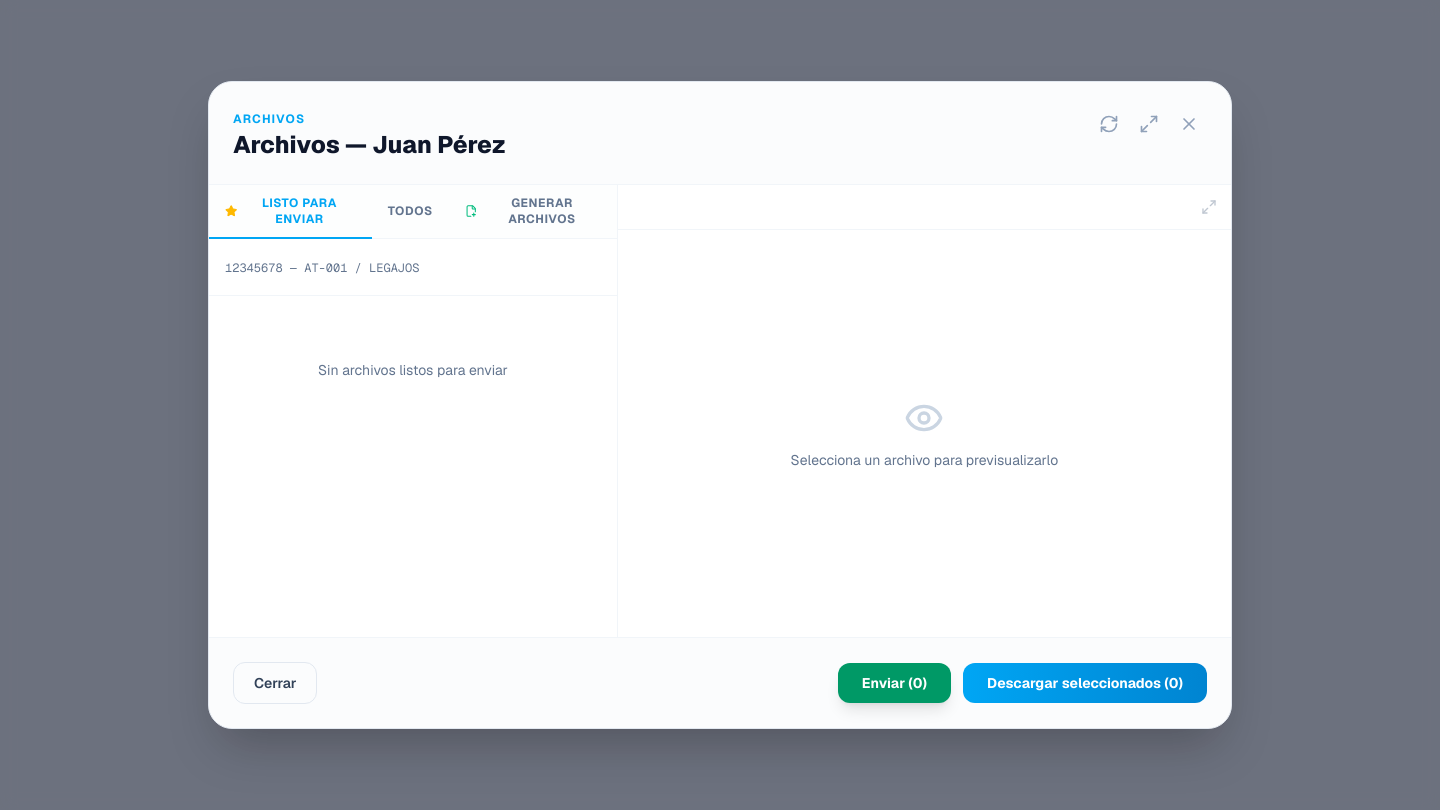
it: FilesModal › asks for confirmation before sending without attachments (Sí confirms)
The image size is (1440, 810).
Click Enviar with an empty selection → custom confirmation dialog.
Click the button with test id "files-modal-send" at (894, 683), box [838,663,951,703]
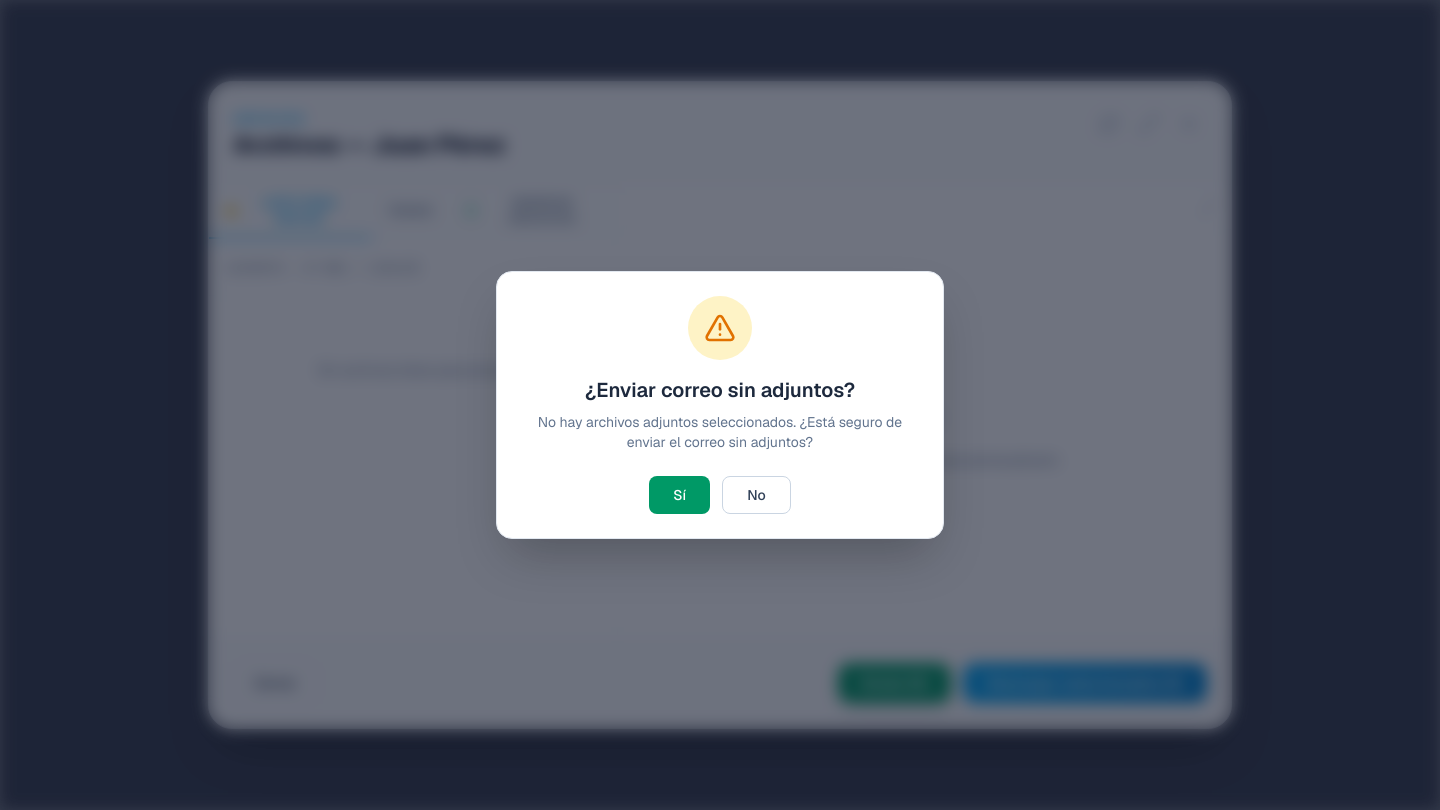
Result: the element with test id "files-modal-no-attachments-confirm" is shown
Result: the heading "¿Enviar correo sin adjuntos?" is shown at [585,377,855,403]
Confirm (Sí) → sends with an empty map.
Click the button with test id "files-modal-confirm-send-no-attachments" at (680, 495), box [649,476,710,514]
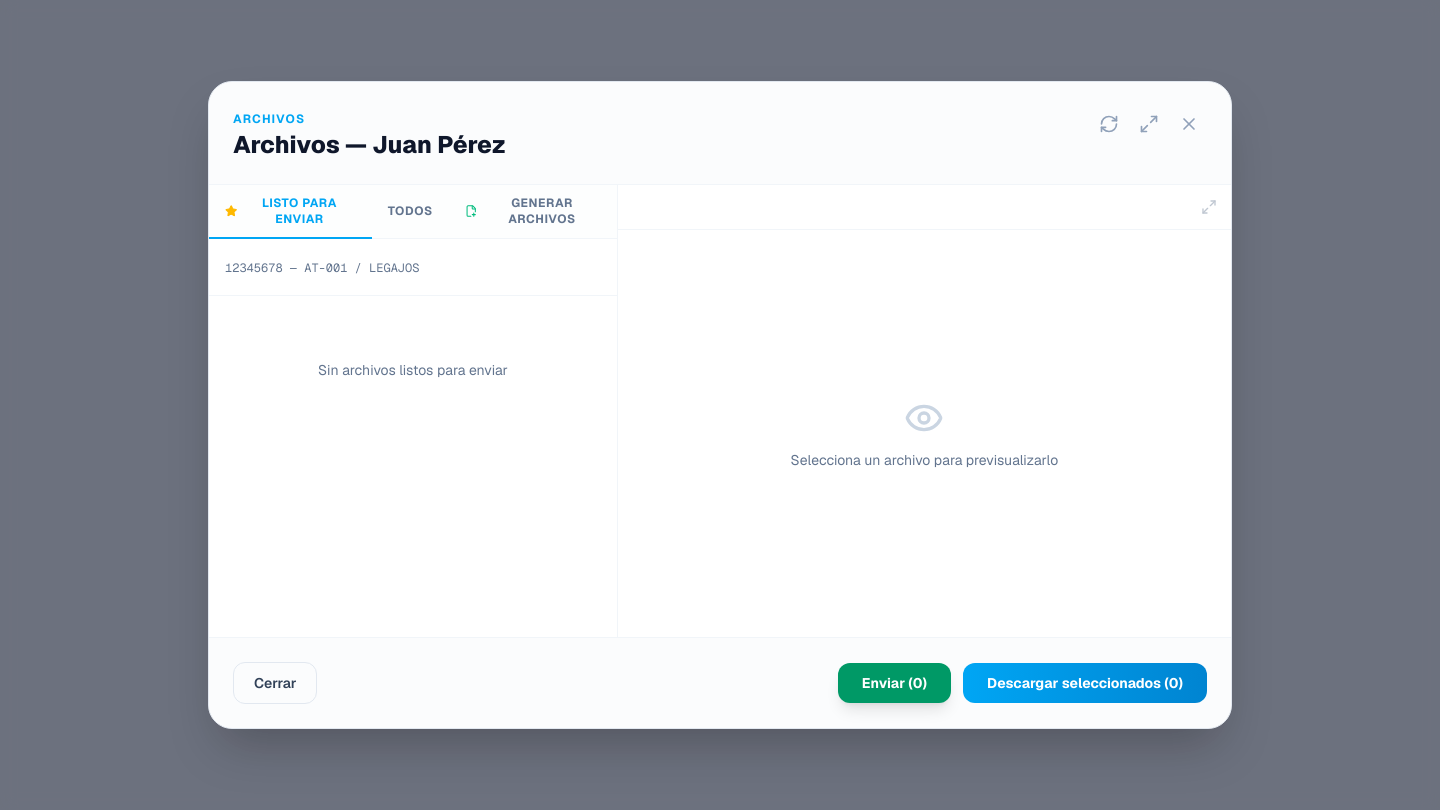
Result: the element with test id "files-modal-no-attachments-confirm" is gone
